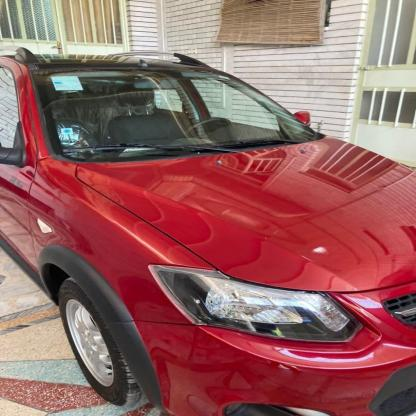Car: (0, 47, 416, 416)
